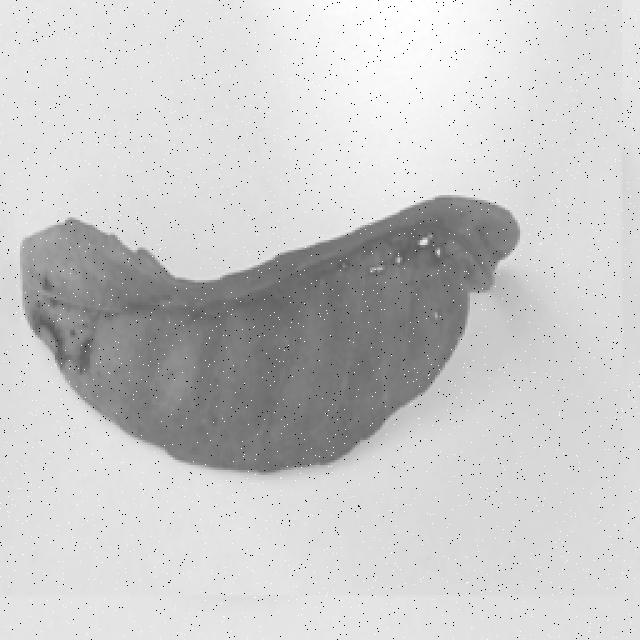greening: (12, 165, 532, 498)
